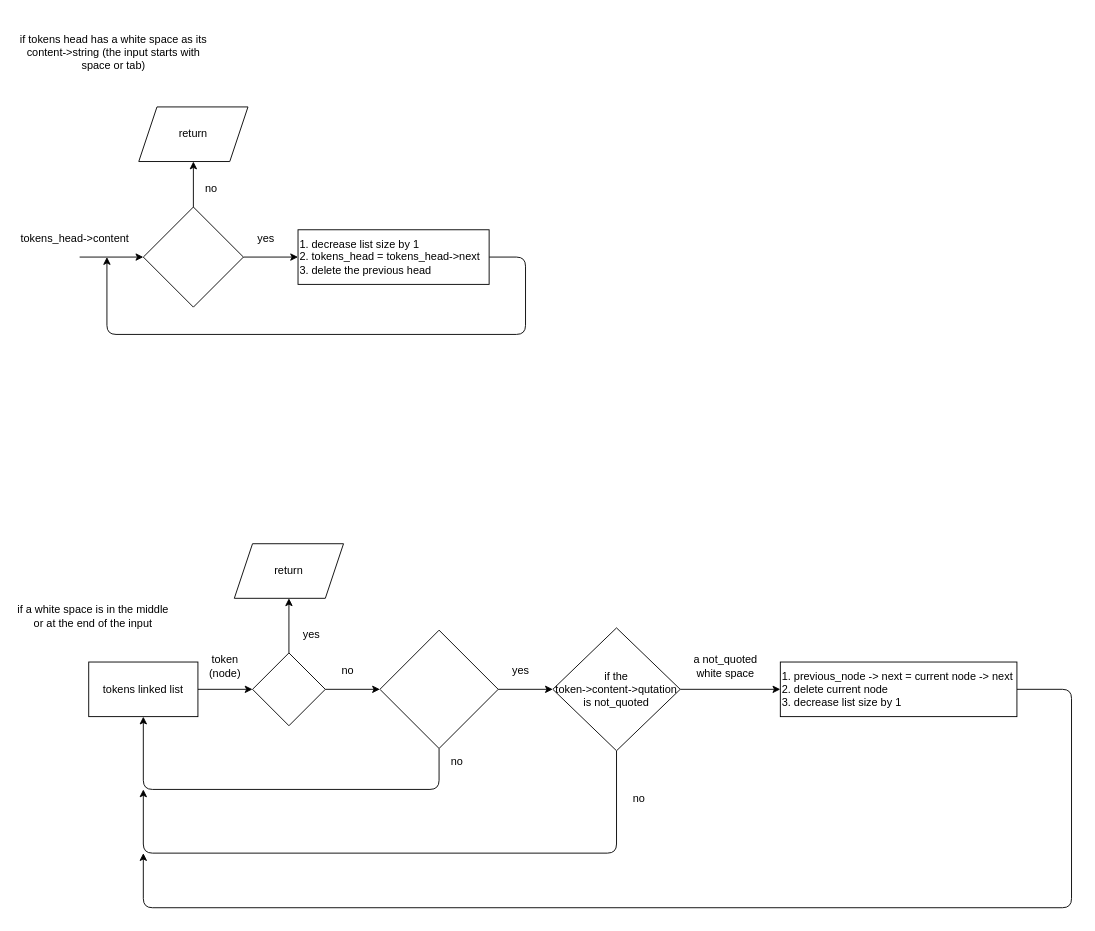
Some shapes in this 1095 by 931 pixel diagram are drawn without their labels. Each missing label, with the box of its shape:
if end of list: (252, 652, 325, 726)
if the token->content->string is space or tab: (379, 629, 498, 748)
is the content of head a space ot tab: (142, 206, 243, 307)
